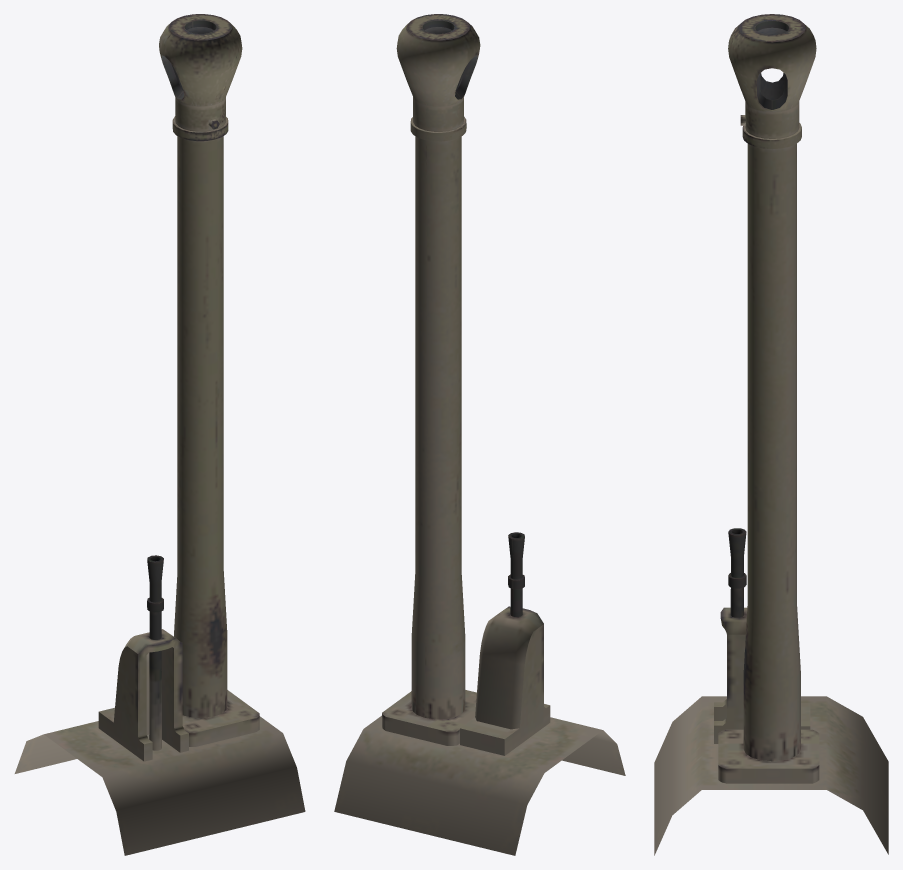
File: Gun_03.glb
3 renders of one model, left to right at view 1: azimuth 30°, elevation 25°; view 2: azimuth 150°, elevation 25°; view 3: azimuth 270°, elevation 25°, orthographic. The views are drawn at different scales.
Visible parts, largest first — view 1: set_0_group_0; view 2: set_0_group_0; view 3: set_0_group_0.
Boxes of the visible parts, x1,y1,x2,y2 form: set_0_group_0: (14, 14, 305, 855); set_0_group_0: (334, 14, 625, 855); set_0_group_0: (654, 14, 888, 855).
Size of the model in its own units: 0.5352 by 2.14 by 0.5654.
Materials: 1 (1 with a texture image).
